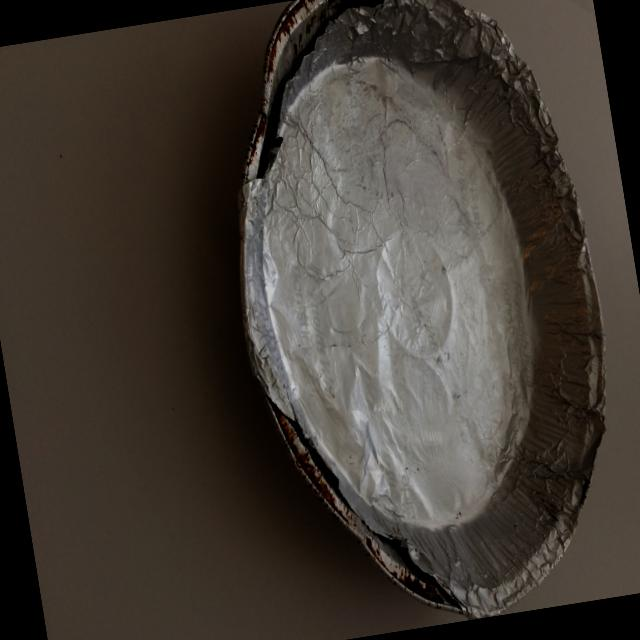Metal: (182, 0, 640, 640)
